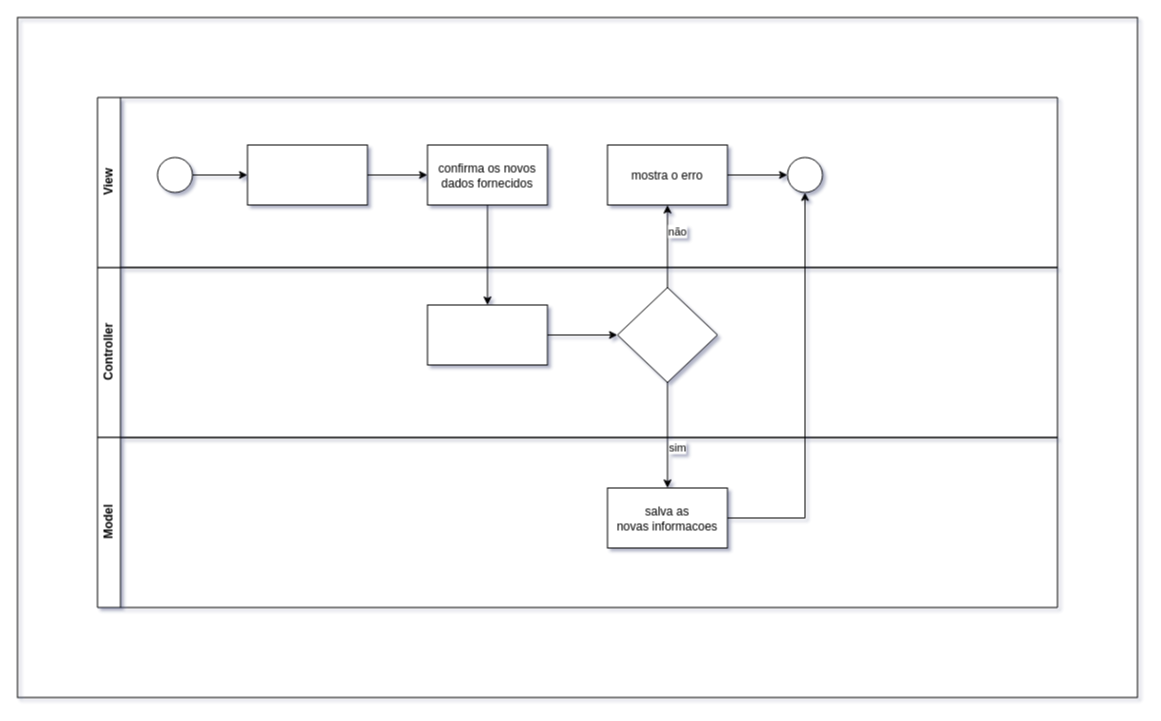
Image size: 1161x721. Some labels were removed from this diagram. The shapes that lost their labels are listed below. From the top down, each one's centre as x and y in pixels, then its label:
point 307,174: permite agora editar, criar e excluir as recompensas
point 487,334: valida as novas informacoes
point 667,334: informaçoes válidas
